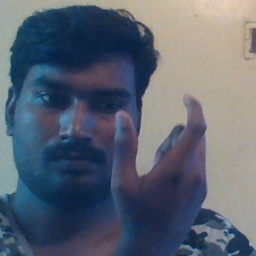U: (106, 92, 214, 234)
